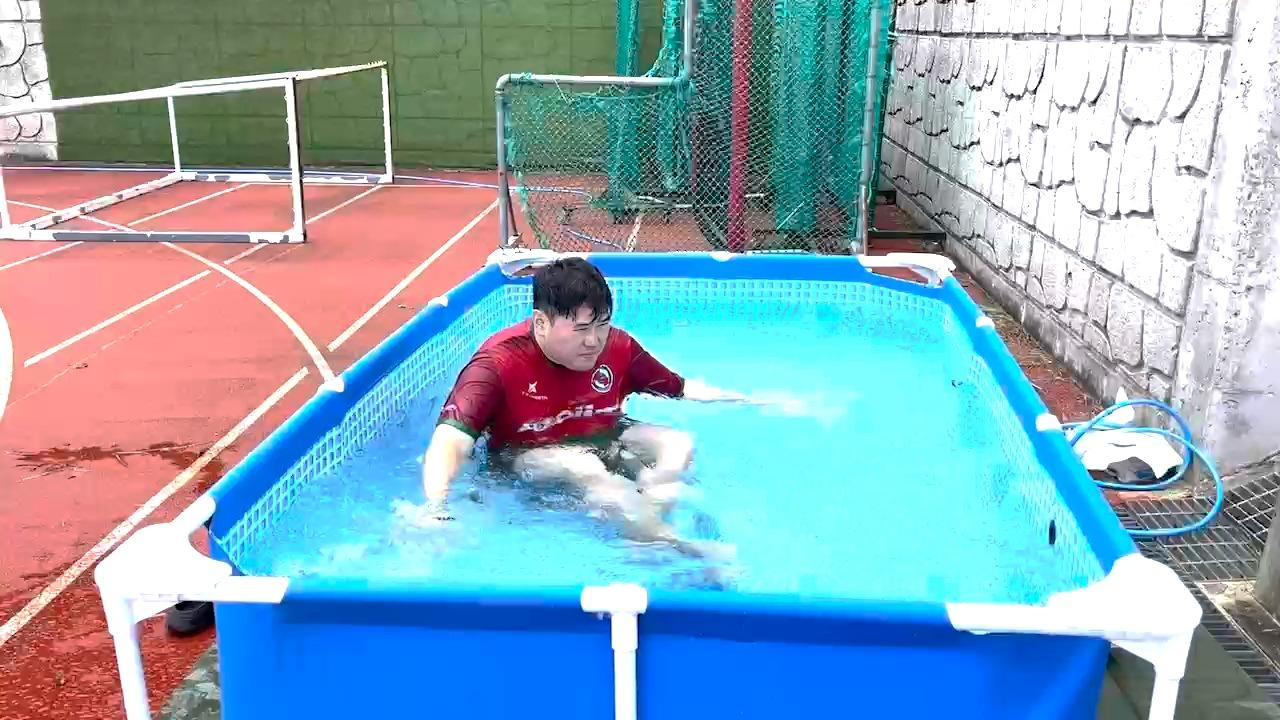Drowning: (434, 277, 753, 542)
